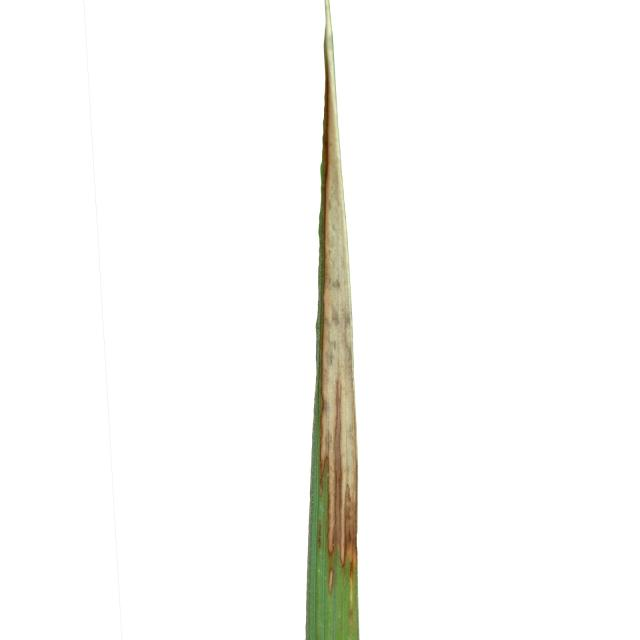Leaf scald: (258, 0, 461, 640)
